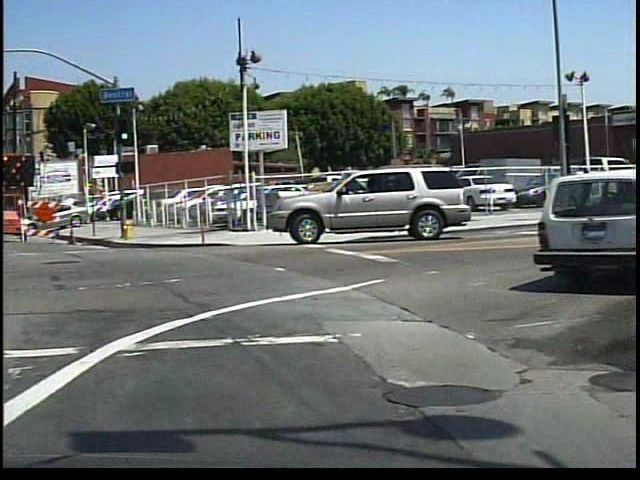person: (576, 163, 596, 206)
